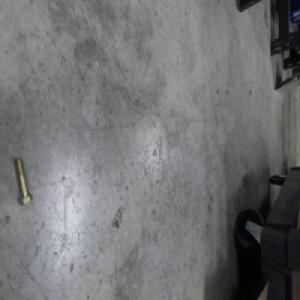Bolt: (13, 156, 33, 206)
